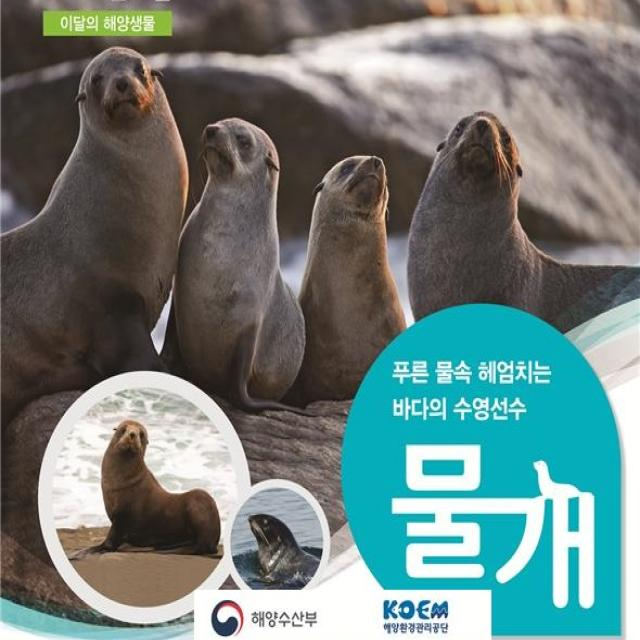WaterDog: (26, 43, 189, 393), (408, 109, 634, 338), (169, 115, 308, 413), (306, 143, 404, 390)
